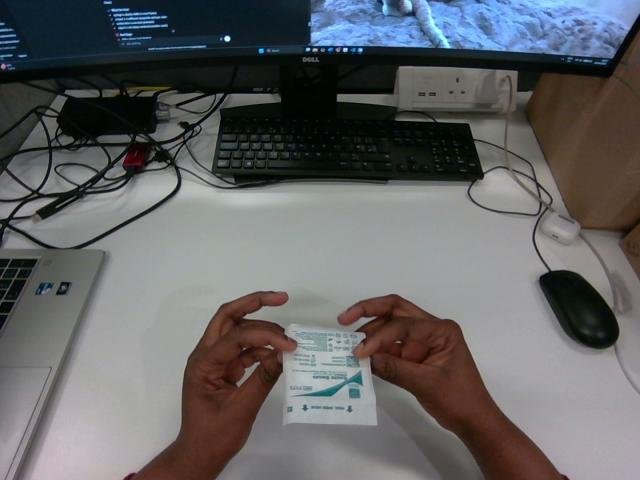gauze: (283, 324, 376, 424)
